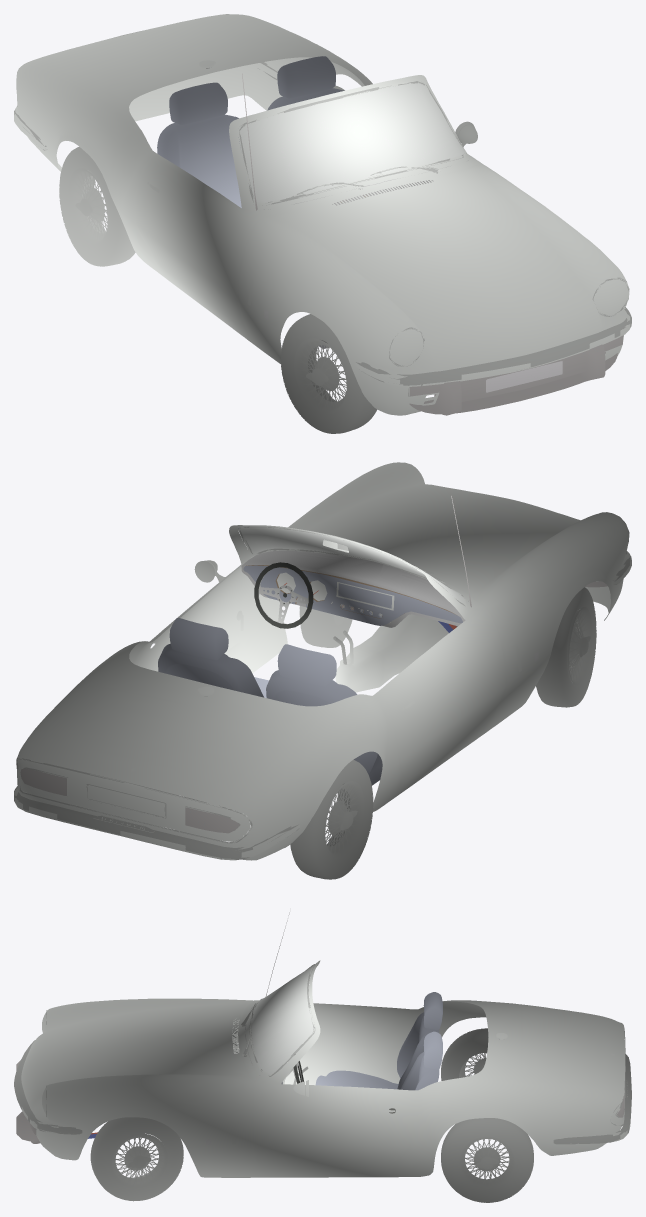
The model's file is Glass_Spitfire-transformed.glb.
3 renders of one model, top to bottom at view 1: azimuth 30°, elevation 25°; view 2: azimuth 150°, elevation 25°; view 3: azimuth 270°, elevation 25°, orthographic. The views are drawn at different scales.
Bounding box in the file's own units: 147 × 139 × 369.
Materials: 2 (2 with a texture image).
